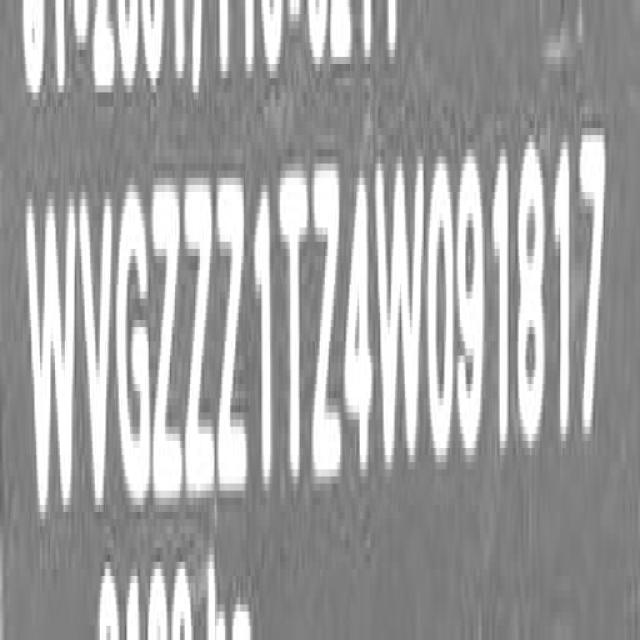0: (428, 148, 456, 478)
1: (489, 137, 513, 467), (252, 162, 274, 511), (554, 124, 574, 460)
4: (345, 157, 377, 498)
7: (579, 125, 609, 459)
8: (520, 128, 549, 458)
9: (454, 141, 483, 473)
G: (117, 181, 153, 521)
T: (277, 157, 308, 508)
V: (78, 182, 113, 511)
W: (26, 182, 76, 530), (378, 148, 426, 488)
Z: (150, 170, 185, 520), (216, 164, 250, 514), (186, 170, 217, 517), (311, 157, 342, 502)
